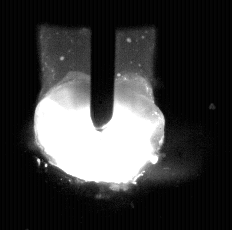arame: (91, 0, 116, 132)
poca: (33, 0, 165, 230)
